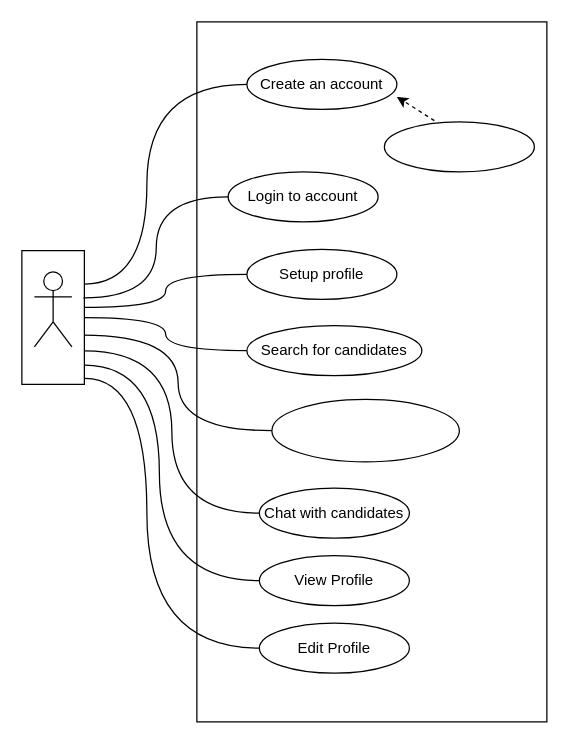
This 569x744 diagram has some shape labels left out. Here are the shapes that lost their labels. From the top down, the box of each, then its label:
(383, 121, 534, 172): verify email
(33, 271, 72, 347): User
(271, 398, 459, 462): List previous and current candidates
